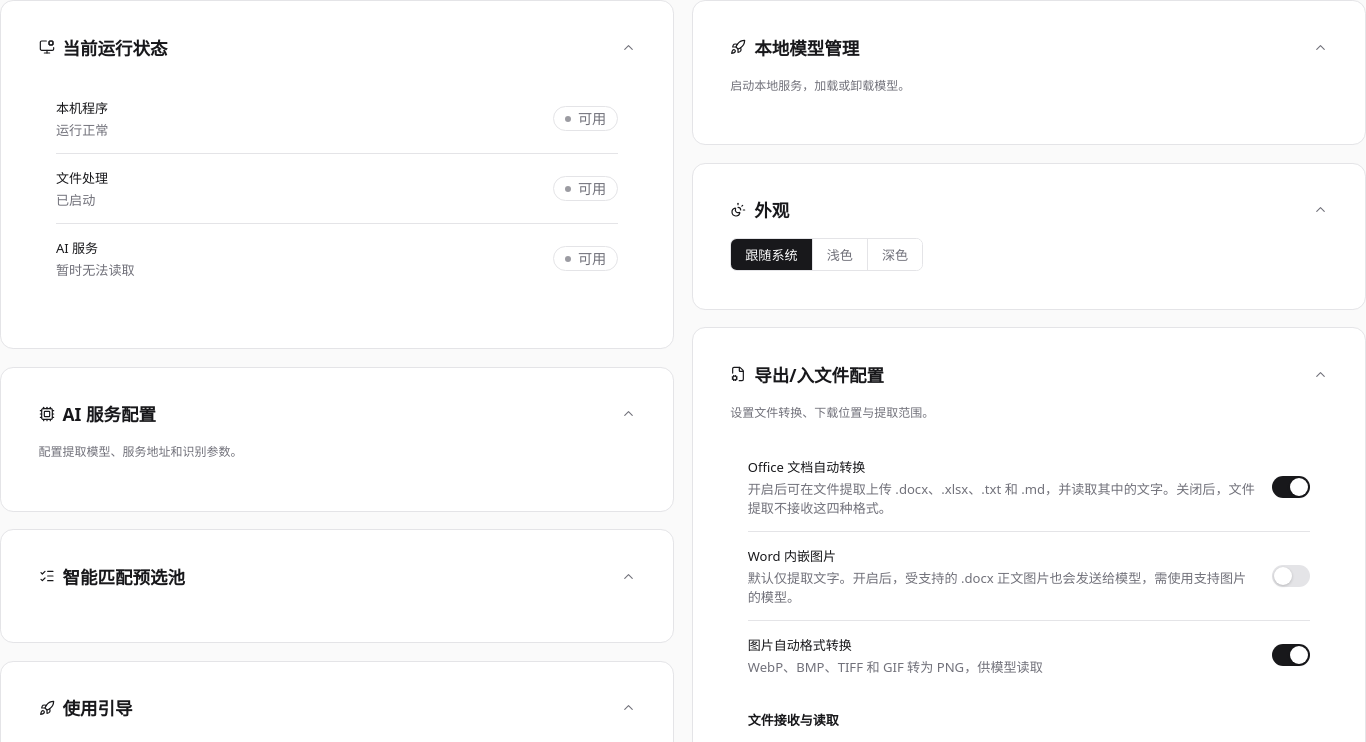
Test case: SettingsPage pending edits › rolls back only the failed toggle without resending or undoing an independent successful choice
Click the button named "Office 文档自动转换".
click(1291, 487)  # box [1272,476,1310,498]
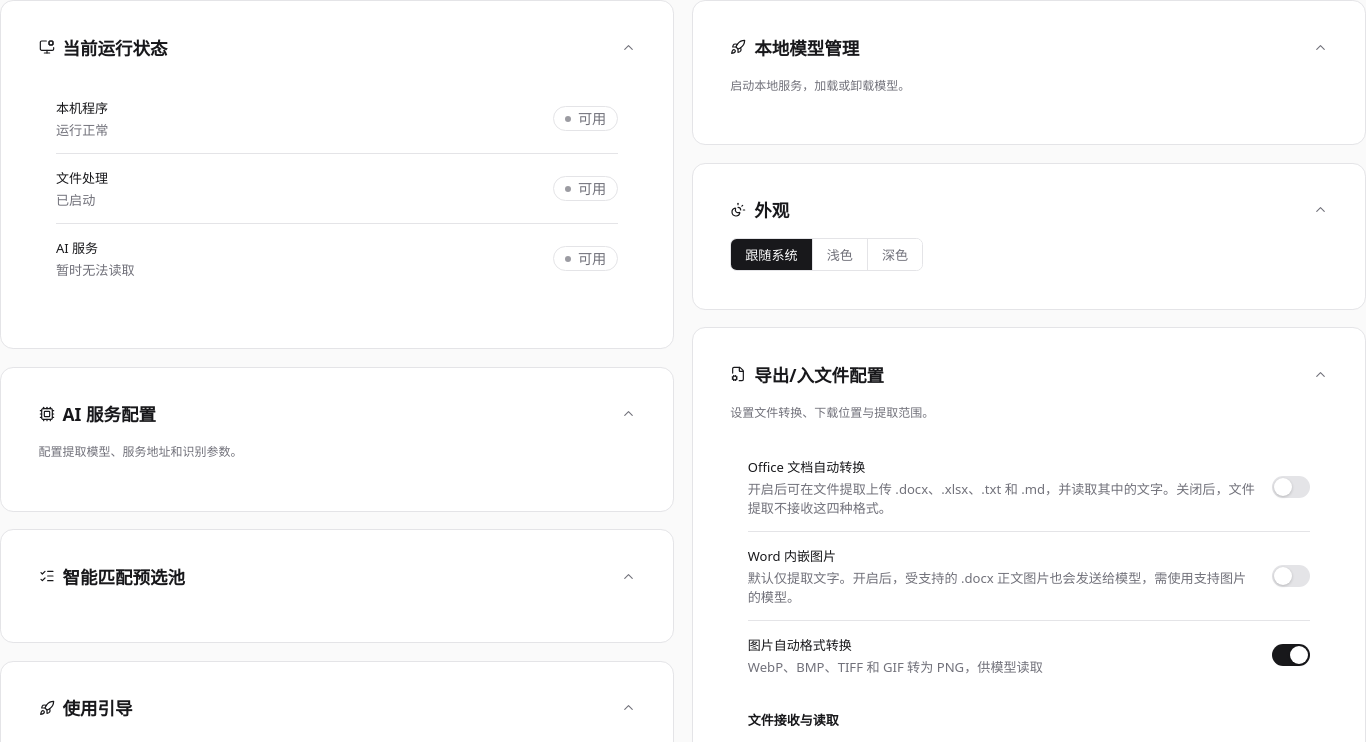
Click the button named "图片自动格式转换".
click(1291, 655)  # box [1272,644,1310,666]
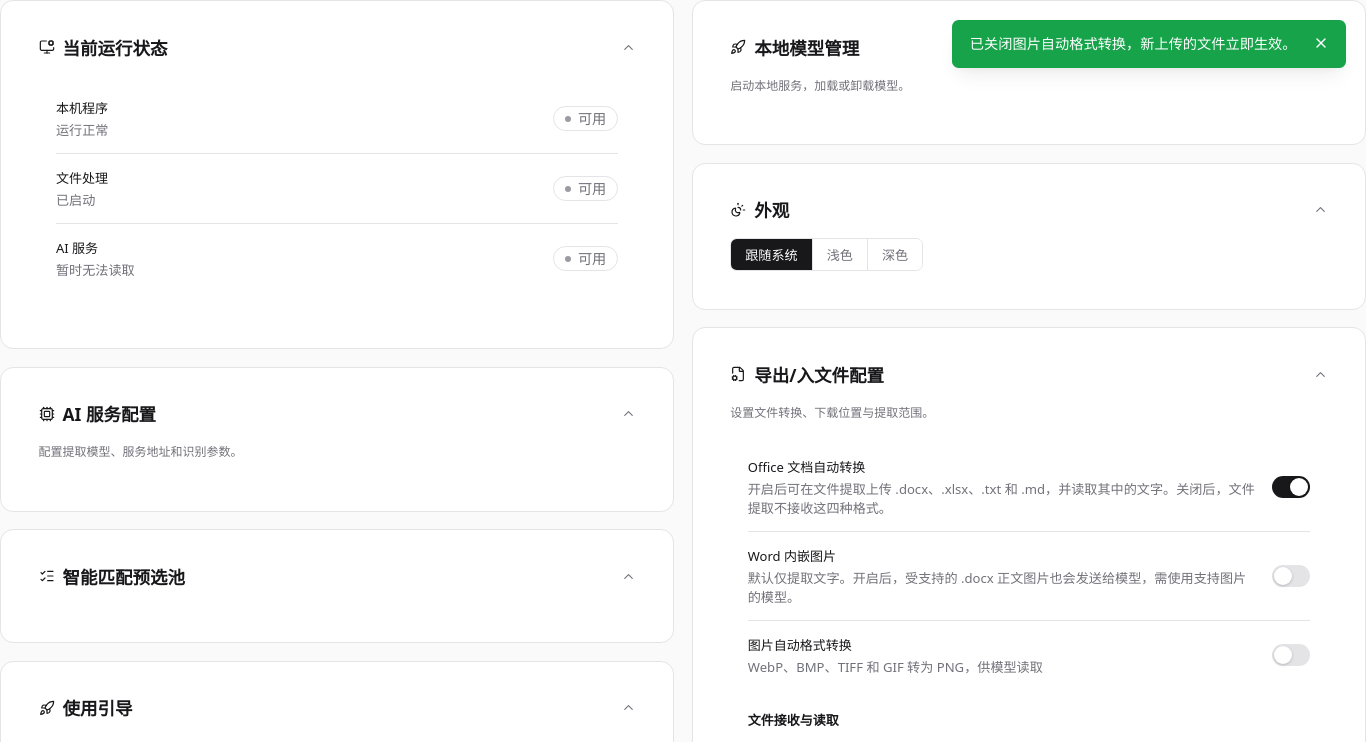
Expected: the text "已关闭图片自动格式转换，新上传的文件立即生效。" is shown, [970,33,1296,54]
